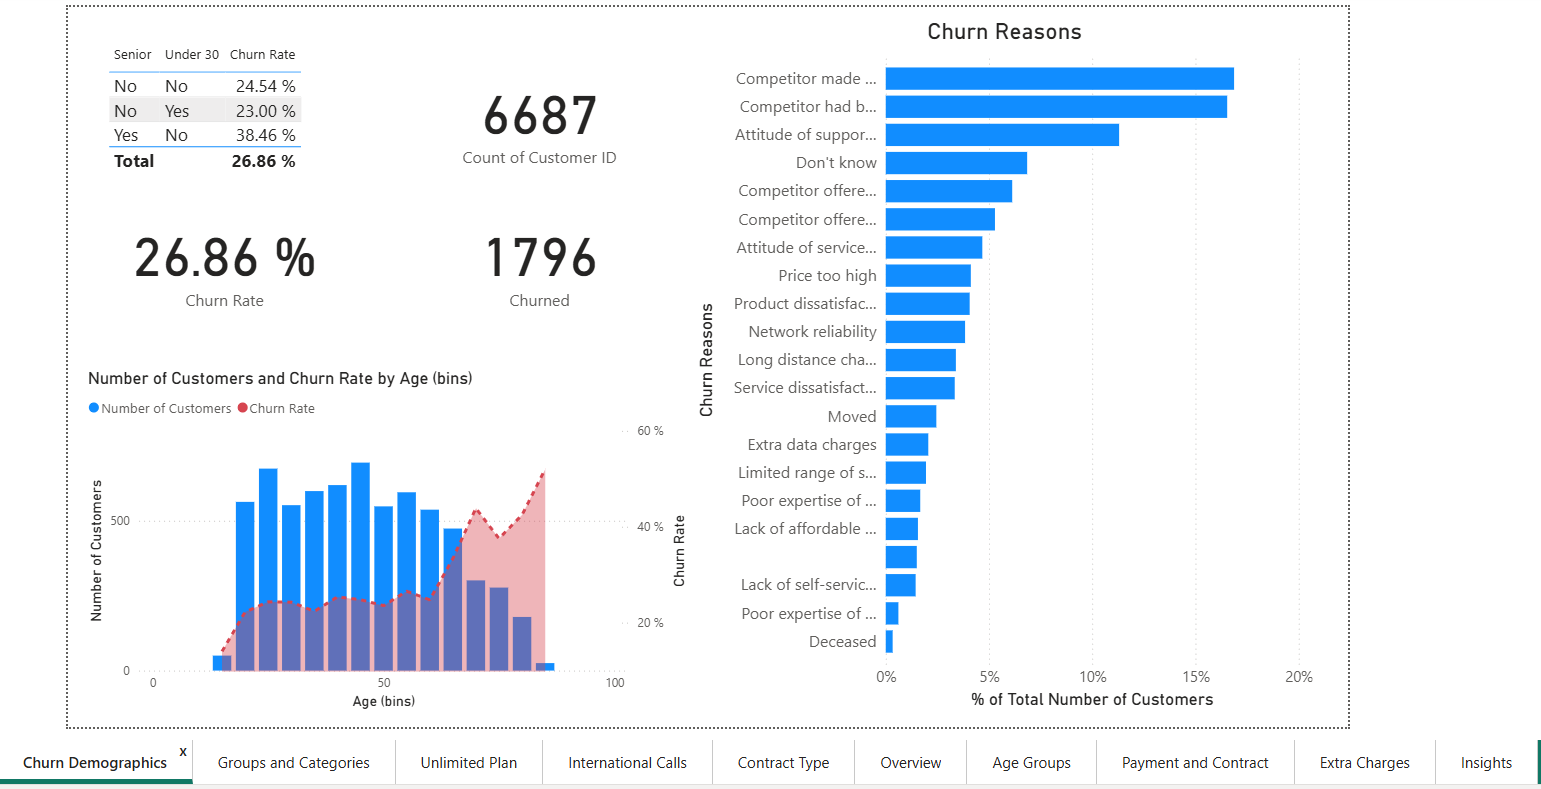

The dashboard page shown, as its layout file describes it:
{"tool":"powerbi","page":{"name":"Churn Demographics","canvas":[1280,720],"ordinal":0},"visuals":[{"type":"tableEx","fields":{"Values":["Databel - Data.Senior","Databel - Data.Under 30","Databel - Data.Churn Rate"]},"box":[35.2,30.8,280.1,161.3],"z":0},{"type":"clusteredBarChart","title":"Churn Reasons","fields":{"Category":["Databel - Data.Churn Reason"],"Y":["CountNonNull(Databel - Data.Number of Customers in Group)"]},"box":[623.2,10.3,626.2,696.5],"z":1000},{"type":"card","fields":{"Values":["Databel - Data.Churn Rate"]},"box":[51.3,192.1,211.2,123.2],"z":2000},{"type":"lineStackedColumnComboChart","fields":{"Category":["Databel - Data.Age (bins)"],"Y":["Databel - Data.Number of costumers"],"Y2":["Databel - Data.Churn Rate"]},"box":[14.7,360.7,608.6,346.1],"z":3000},{"type":"card","fields":{"Values":["Count(Databel - Data.Customer ID)"]},"box":[366.6,49.9,211.2,123.2],"z":4000},{"type":"card","fields":{"Values":["Sum(Databel - Data.Churned)"]},"box":[366.6,192.1,211.2,123.2],"z":5000}]}

Visuals, with their boxes on the page's 1280x720 design canvas (x1, y1, x2, y2). These are canvas units, not pixel positions in the 1541x789 screenshot, which may show the page scaled, cropped or inside an application window:
tableEx - Databel - Data.Senior x Databel - Data.Under 30: rect(35, 31, 315, 192)
"Churn Reasons" clusteredBarChart: rect(623, 10, 1249, 707)
card - Databel - Data.Churn Rate: rect(51, 192, 262, 315)
lineStackedColumnComboChart - Databel - Data.Age (bins) x Databel - Data.Number of costumers: rect(15, 361, 623, 707)
card - Count(Databel - Data.Customer ID): rect(367, 50, 578, 173)
card - Sum(Databel - Data.Churned): rect(367, 192, 578, 315)
